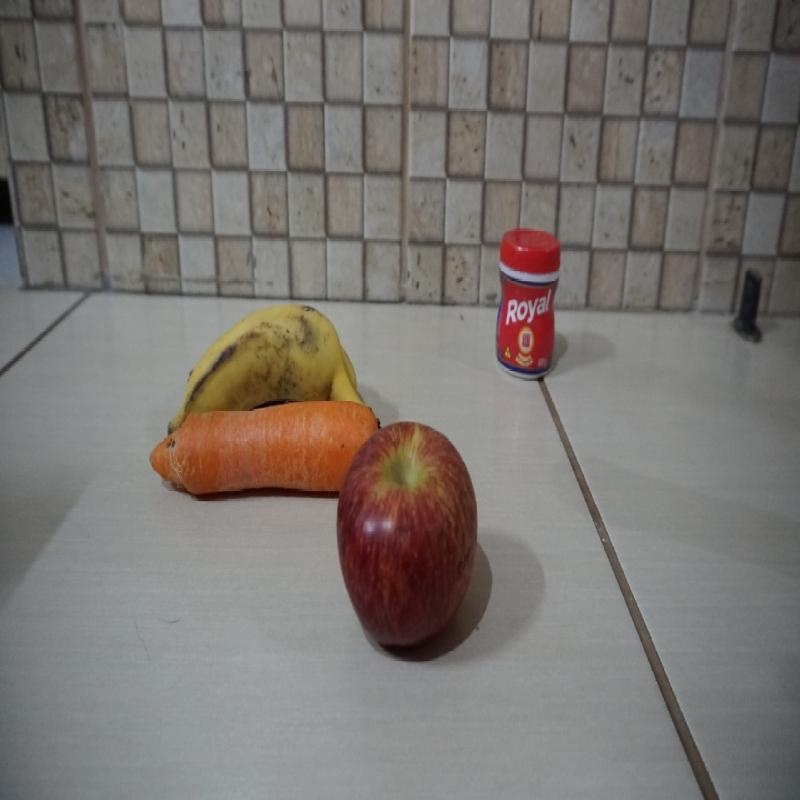Apple: (336, 421, 476, 649)
Banana: (168, 301, 374, 402)
Carrot: (148, 404, 336, 500)
Yeast: (491, 227, 562, 380)
